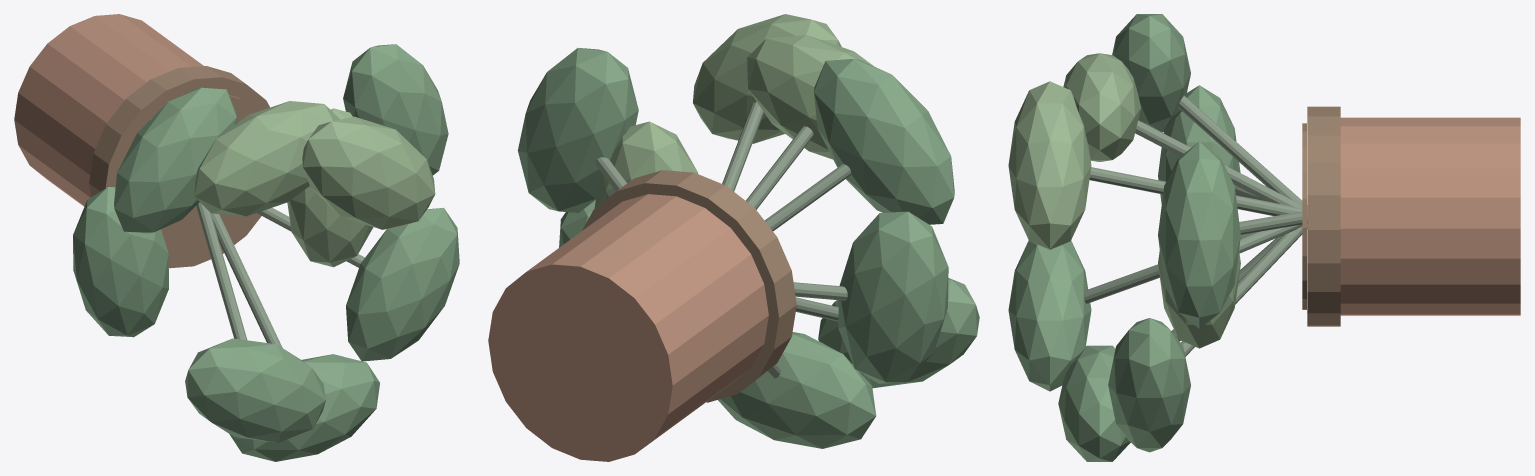
File: floor_plant.glb
The picture shows the model from 3 angles, left to right: view 1: azimuth 30°, elevation 25°; view 2: azimuth 150°, elevation 25°; view 3: azimuth 270°, elevation 25°; orthographic projection. The views are drawn at different scales.
Parts seen in each view (by area): view 1: terracotta_pot, leaf_5, leaf_7, leaf_3, leaf_1, leaf_6, leaf_4, leaf_8, pot_rim, leaf_2, leaf_0, soil (+3 smaller); view 2: terracotta_pot, leaf_1, leaf_4, leaf_8, leaf_2, pot_rim, leaf_3, leaf_6, leaf_7, leaf_0, stem_1, stem_6 (+5 smaller); view 3: terracotta_pot, leaf_8, leaf_3, leaf_7, leaf_5, pot_rim, leaf_1, leaf_6, leaf_2, leaf_4, leaf_0, stem_1 (+7 smaller).
Boxes of the visible parts, bbox=[...] form: terracotta_pot: bbox=[14, 14, 203, 206]; leaf_5: bbox=[346, 207, 459, 361]; leaf_7: bbox=[185, 338, 325, 442]; leaf_3: bbox=[302, 116, 435, 229]; leaf_1: bbox=[114, 87, 236, 233]; leaf_6: bbox=[194, 101, 339, 216]; leaf_4: bbox=[73, 187, 168, 337]; leaf_8: bbox=[343, 44, 448, 175]; pot_rim: bbox=[89, 66, 269, 268]; leaf_2: bbox=[229, 354, 379, 461]; leaf_0: bbox=[287, 108, 373, 267]; soil: bbox=[132, 95, 256, 255]; terracotta_pot: bbox=[488, 194, 768, 461]; leaf_1: bbox=[814, 59, 954, 224]; leaf_4: bbox=[838, 211, 948, 383]; leaf_8: bbox=[517, 48, 638, 212]; leaf_2: bbox=[718, 332, 876, 448]; pot_rim: bbox=[582, 170, 796, 402]; leaf_3: bbox=[693, 14, 841, 143]; leaf_6: bbox=[747, 35, 874, 159]; leaf_7: bbox=[818, 278, 979, 388]; leaf_0: bbox=[594, 121, 697, 208]; stem_1: bbox=[764, 164, 850, 231]; stem_6: bbox=[746, 126, 813, 209]; terracotta_pot: bbox=[1340, 117, 1520, 315]; leaf_8: bbox=[1158, 141, 1240, 328]; leaf_3: bbox=[1008, 81, 1091, 249]; leaf_7: bbox=[1008, 240, 1091, 391]; leaf_5: bbox=[1108, 318, 1190, 452]; pot_rim: bbox=[1307, 106, 1340, 326]; leaf_1: bbox=[1112, 14, 1190, 132]; leaf_6: bbox=[1063, 53, 1141, 161]; leaf_2: bbox=[1058, 345, 1130, 461]; leaf_4: bbox=[1158, 85, 1240, 203]; leaf_0: bbox=[1158, 250, 1240, 348]; stem_1: bbox=[1178, 95, 1307, 207].
Bounding box in the file's own units: 0.8183 × 0.7897 × 0.925.
